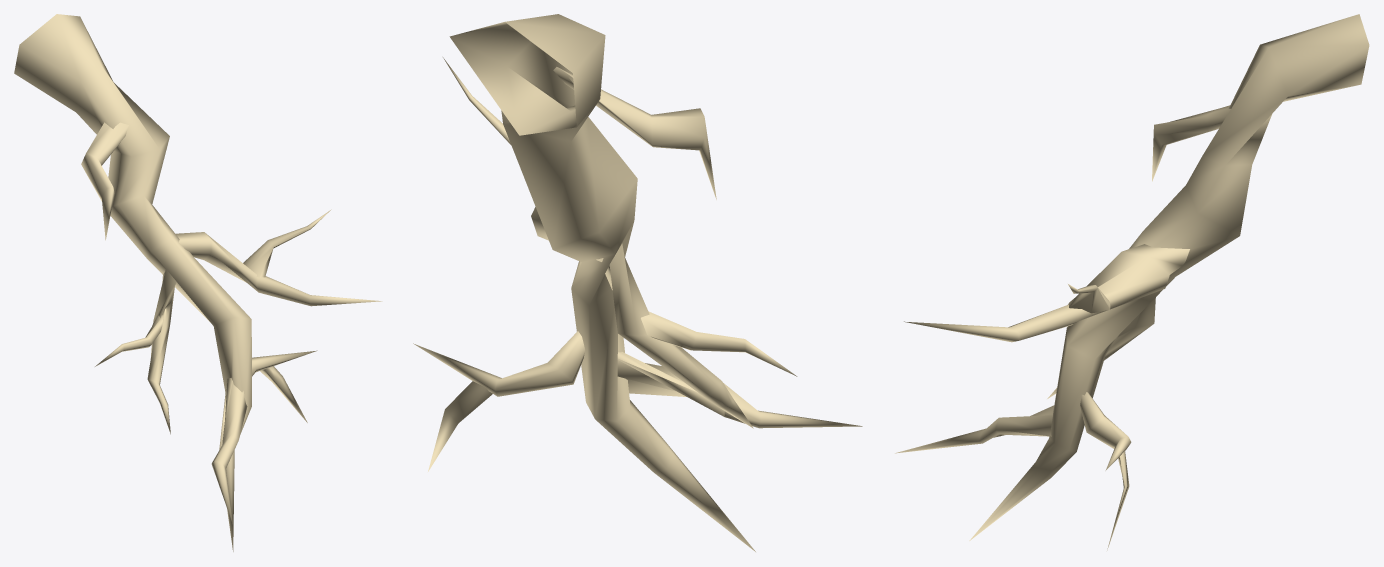
3 views of the same model, side by side, from view 1: azimuth 30°, elevation 25°; view 2: azimuth 150°, elevation 25°; view 3: azimuth 270°, elevation 25° (orthographic). The views are drawn at different scales.
Visible parts, largest first — view 1: Object33; view 2: Object33; view 3: Object33.
Part boxes in pixels (bbox=[...]): Object33: bbox=[14, 14, 382, 551]; Object33: bbox=[413, 14, 862, 551]; Object33: bbox=[895, 14, 1369, 550].
Size of the model in its own units: 23942 by 43691 by 36360.
